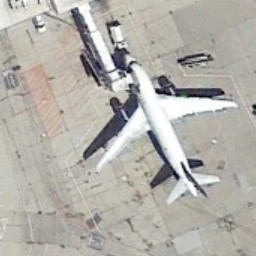Airplane: (68, 50, 245, 218)
